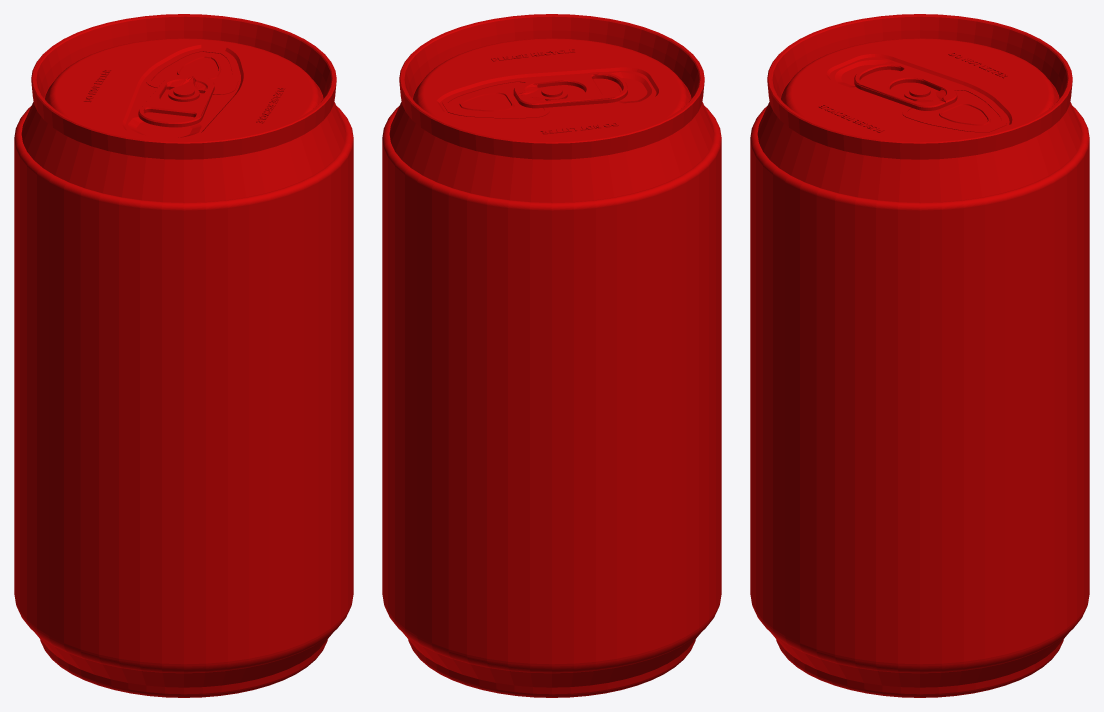
The picture shows the model from 3 angles, left to right: view 1: azimuth 30°, elevation 25°; view 2: azimuth 150°, elevation 25°; view 3: azimuth 270°, elevation 25°; orthographic projection.
Parts seen in each view (by area): view 1: mesh104_mesh104-geometry, mesh10_mesh10-geometry, mesh1_mesh1-geometry, mesh106_mesh106-geometry, mesh41.001_mesh41-geometry, mesh38.001_mesh38-geometry; view 2: mesh104_mesh104-geometry, mesh10_mesh10-geometry, mesh1_mesh1-geometry, mesh106_mesh106-geometry, mesh38.001_mesh38-geometry, mesh41.001_mesh41-geometry; view 3: mesh104_mesh104-geometry, mesh10_mesh10-geometry, mesh1_mesh1-geometry, mesh106_mesh106-geometry, mesh41.001_mesh41-geometry, mesh38.001_mesh38-geometry.
Boxes of the visible parts, x1=… form: mesh104_mesh104-geometry: x1=14, y1=102, x2=353, y2=664; mesh10_mesh10-geometry: x1=45, y1=38, x2=322, y2=140; mesh1_mesh1-geometry: x1=31, y1=14, x2=336, y2=159; mesh106_mesh106-geometry: x1=14, y1=594, x2=353, y2=697; mesh41.001_mesh41-geometry: x1=164, y1=76, x2=214, y2=127; mesh38.001_mesh38-geometry: x1=138, y1=75, x2=193, y2=126; mesh104_mesh104-geometry: x1=382, y1=102, x2=721, y2=664; mesh10_mesh10-geometry: x1=413, y1=38, x2=690, y2=140; mesh1_mesh1-geometry: x1=399, y1=14, x2=704, y2=159; mesh106_mesh106-geometry: x1=382, y1=594, x2=721, y2=697; mesh38.001_mesh38-geometry: x1=516, y1=82, x2=627, y2=108; mesh41.001_mesh41-geometry: x1=513, y1=72, x2=625, y2=98; mesh104_mesh104-geometry: x1=750, y1=102, x2=1089, y2=664; mesh10_mesh10-geometry: x1=781, y1=38, x2=1058, y2=140; mesh1_mesh1-geometry: x1=767, y1=14, x2=1072, y2=159; mesh106_mesh106-geometry: x1=750, y1=594, x2=1089, y2=697; mesh41.001_mesh41-geometry: x1=854, y1=68, x2=945, y2=110; mesh38.001_mesh38-geometry: x1=866, y1=63, x2=957, y2=106.
Size of the model in its own units: 0.4329 by 0.7907 by 0.4329.
